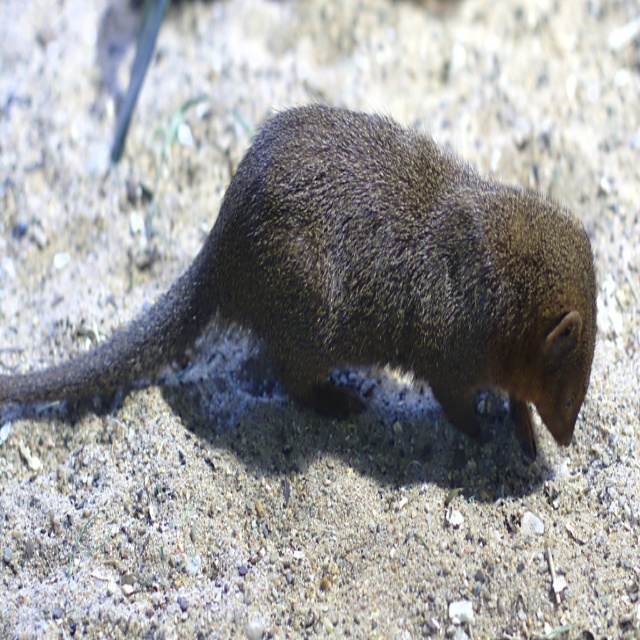Otter: (0, 102, 595, 460)
